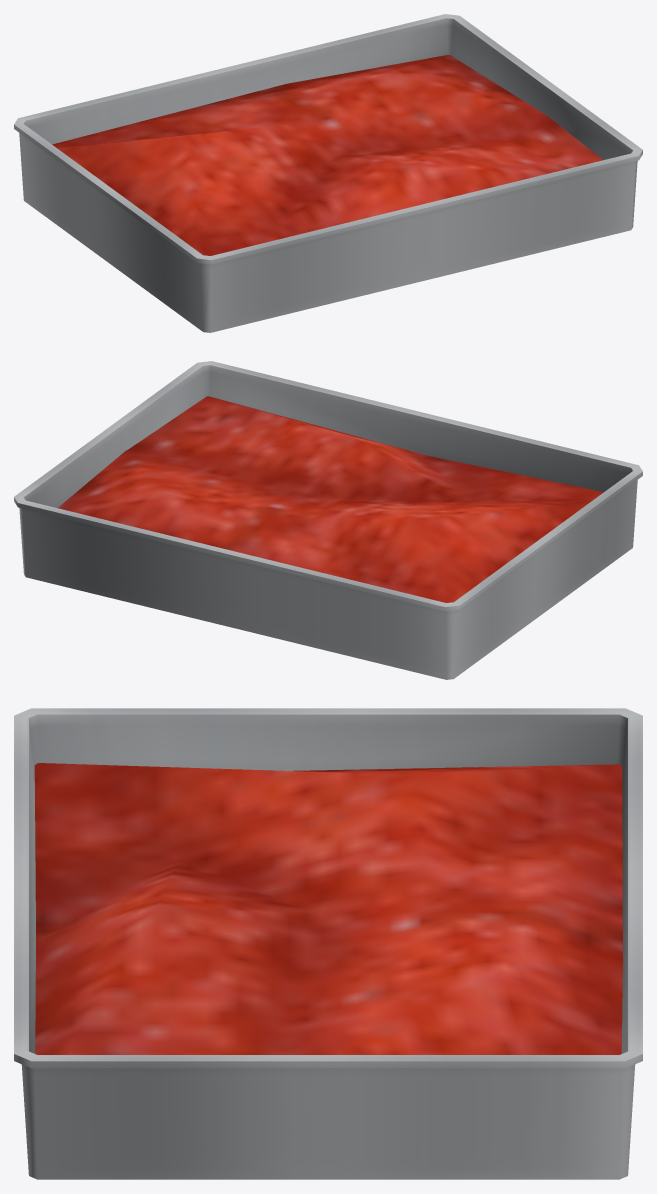
The model's file is jsf_Ingredient_RedGinger_02.fbx.
The picture shows the model from 3 angles, top to bottom: view 1: azimuth 30°, elevation 25°; view 2: azimuth 150°, elevation 25°; view 3: azimuth 270°, elevation 25°; orthographic projection. The views are drawn at different scales.
Parts seen in each view (by area): view 1: jsf_Ingredient_RedGinger_02; view 2: jsf_Ingredient_RedGinger_02; view 3: jsf_Ingredient_RedGinger_02.
Boxes of the visible parts, box(x1,y1,x2,y2) form: jsf_Ingredient_RedGinger_02: box(14, 14, 642, 332); jsf_Ingredient_RedGinger_02: box(14, 361, 642, 679); jsf_Ingredient_RedGinger_02: box(14, 708, 642, 1179).
Bounding box in the file's own units: 23.93 × 4.49 × 18.03.
